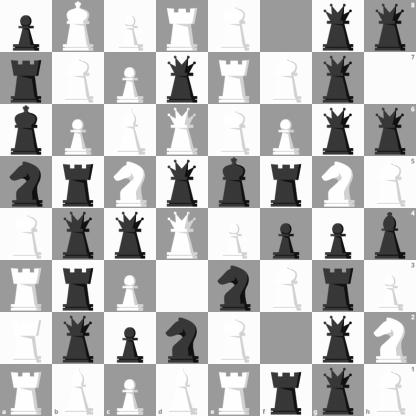B: (156, 364, 209, 416), (52, 364, 104, 416), (105, 105, 156, 156)
K: (364, 156, 416, 209), (364, 364, 416, 416), (1, 209, 52, 260), (53, 1, 104, 52), (53, 53, 104, 104), (209, 1, 260, 52), (209, 105, 260, 156), (209, 313, 260, 364), (261, 53, 312, 104), (261, 261, 312, 312)
N: (364, 312, 416, 364), (105, 157, 156, 208), (313, 157, 364, 208)
P: (104, 364, 156, 416), (364, 260, 416, 312), (53, 105, 104, 156), (105, 1, 156, 52), (105, 53, 156, 104), (105, 261, 156, 312), (209, 209, 260, 260), (261, 105, 312, 156)
Q: (157, 105, 208, 156), (157, 209, 208, 260)
R: (0, 364, 52, 416), (209, 364, 260, 416), (1, 261, 52, 312), (1, 313, 52, 364), (157, 1, 208, 52), (209, 53, 260, 104)
b: (364, 209, 416, 260)
board: (0, 0, 415, 415)
k: (1, 105, 52, 156), (209, 157, 260, 208)
n: (1, 157, 52, 208), (157, 313, 208, 364), (209, 261, 260, 312)
p: (1, 1, 52, 52), (105, 313, 156, 364), (261, 209, 312, 260), (313, 209, 364, 260)
q: (312, 364, 364, 416), (364, 0, 416, 52), (364, 104, 416, 156), (53, 209, 104, 260), (53, 313, 104, 364), (105, 209, 156, 260), (157, 53, 208, 104), (157, 157, 208, 208), (313, 1, 364, 52), (313, 53, 364, 104), (313, 105, 364, 156), (313, 313, 364, 364)
r: (260, 364, 312, 416), (1, 53, 52, 104), (53, 157, 104, 208), (53, 261, 104, 312), (261, 157, 312, 208), (313, 261, 364, 312)
